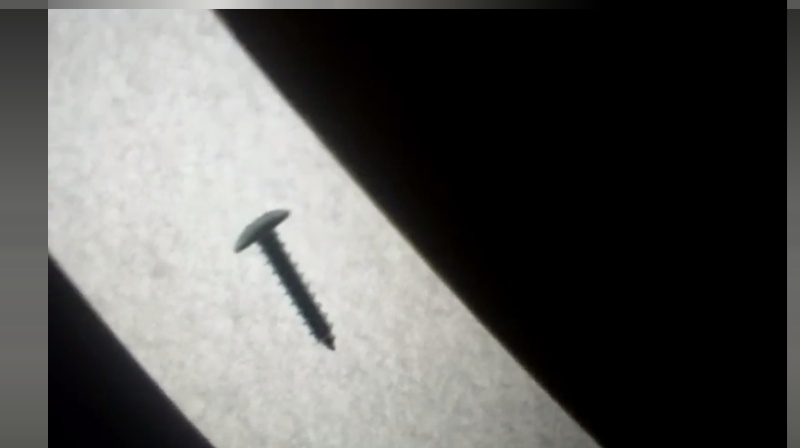S003: (231, 204, 339, 355)
